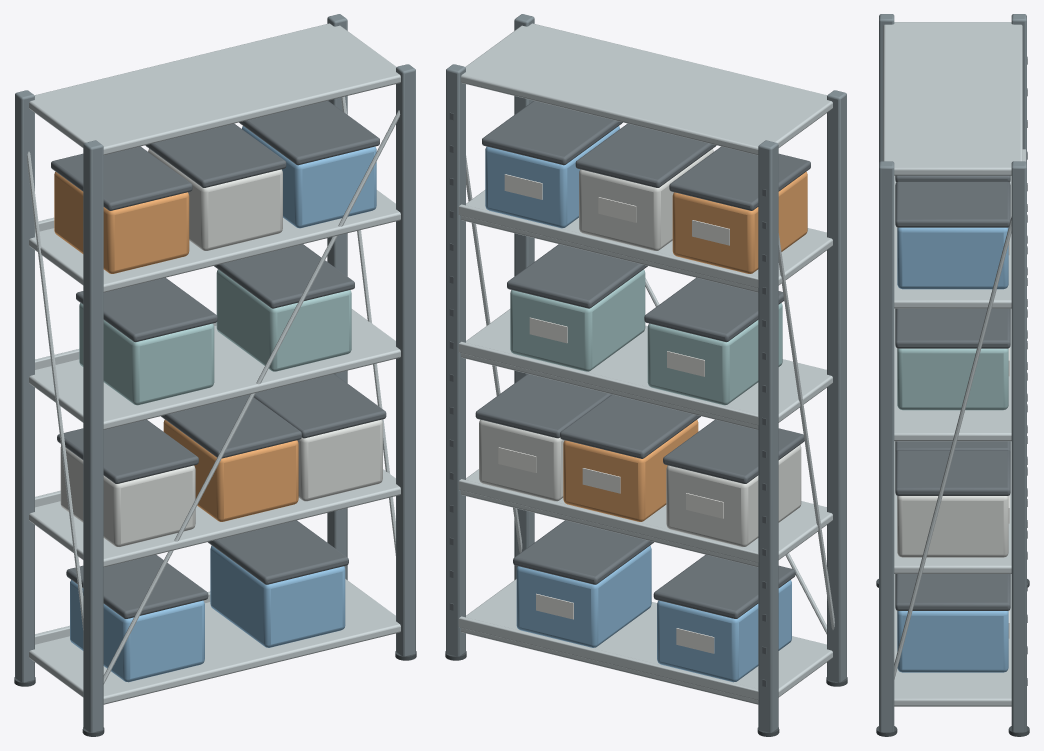
The model's file is open_shelving.glb.
3 renders of one model, left to right at view 1: azimuth 30°, elevation 25°; view 2: azimuth 150°, elevation 25°; view 3: azimuth 270°, elevation 25°, orthographic. The views are drawn at different scales.
Parts seen in each view (by area): view 1: shelves_alloy, tub_lids_graphite, uprights_dark_alloy, storage_tubs_cool_blue, storage_tubs_warm_panel, storage_tubs_teal_soft, storage_tubs_orange, cross_braces_alloy, shelf_lips_alloy; view 2: tub_lids_graphite, shelves_alloy, uprights_dark_alloy, storage_tubs_cool_blue, storage_tubs_warm_panel, storage_tubs_teal_soft, shelf_lips_alloy, storage_tubs_orange, tub_labels_white_painted, cross_braces_alloy, upright_slots_graphite; view 3: shelves_alloy, tub_lids_graphite, uprights_dark_alloy, storage_tubs_cool_blue, storage_tubs_teal_soft, storage_tubs_warm_panel, cross_braces_alloy, feet_black_rubber, upright_slots_graphite.
Boxes of the visible parts, box(x1,y1,x2,y2) form: shelves_alloy: box(29, 23, 400, 704); tub_lids_graphite: box(51, 101, 386, 618); uprights_dark_alloy: box(15, 14, 415, 732); storage_tubs_cool_blue: box(70, 126, 376, 682); storage_tubs_warm_panel: box(60, 148, 382, 546); storage_tubs_teal_soft: box(79, 269, 351, 405); storage_tubs_orange: box(54, 171, 298, 521); cross_braces_alloy: box(27, 96, 400, 684); shelf_lips_alloy: box(35, 217, 216, 644); tub_lids_graphite: box(475, 101, 810, 618); shelves_alloy: box(461, 23, 832, 704); uprights_dark_alloy: box(446, 14, 846, 732); storage_tubs_cool_blue: box(485, 126, 791, 682); storage_tubs_warm_panel: box(479, 148, 801, 546); storage_tubs_teal_soft: box(510, 269, 782, 405); shelf_lips_alloy: box(458, 204, 758, 700); storage_tubs_orange: box(563, 171, 807, 521); tub_labels_white_painted: box(498, 174, 729, 653); cross_braces_alloy: box(466, 156, 834, 634); upright_slots_graphite: box(449, 112, 766, 686); shelves_alloy: box(883, 22, 1022, 706); tub_lids_graphite: box(895, 175, 1010, 610); uprights_dark_alloy: box(879, 14, 1026, 731); storage_tubs_cool_blue: box(897, 227, 1008, 672); storage_tubs_teal_soft: box(897, 348, 1008, 410); storage_tubs_warm_panel: box(897, 496, 1008, 557); cross_braces_alloy: box(894, 217, 1011, 679); feet_black_rubber: box(876, 579, 1029, 736); upright_slots_graphite: box(1027, 56, 1027, 685).
Size of the model in its own units: 1.06 by 1.8 by 0.44.
